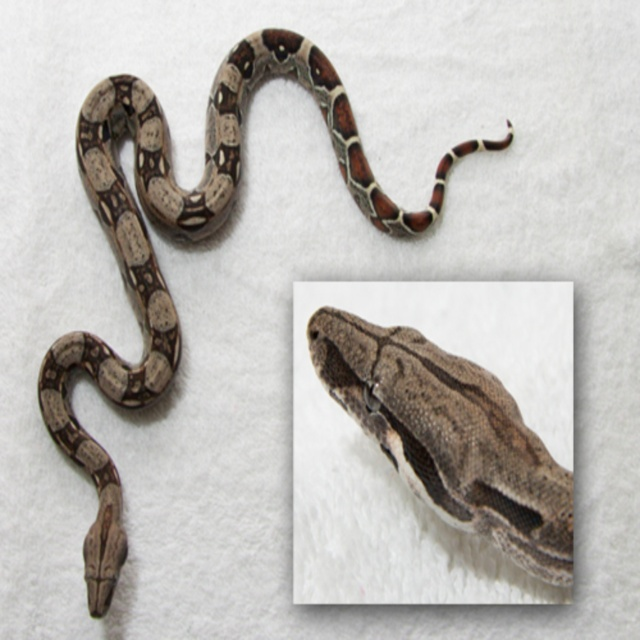Snake: (35, 20, 512, 616), (307, 309, 573, 585)
